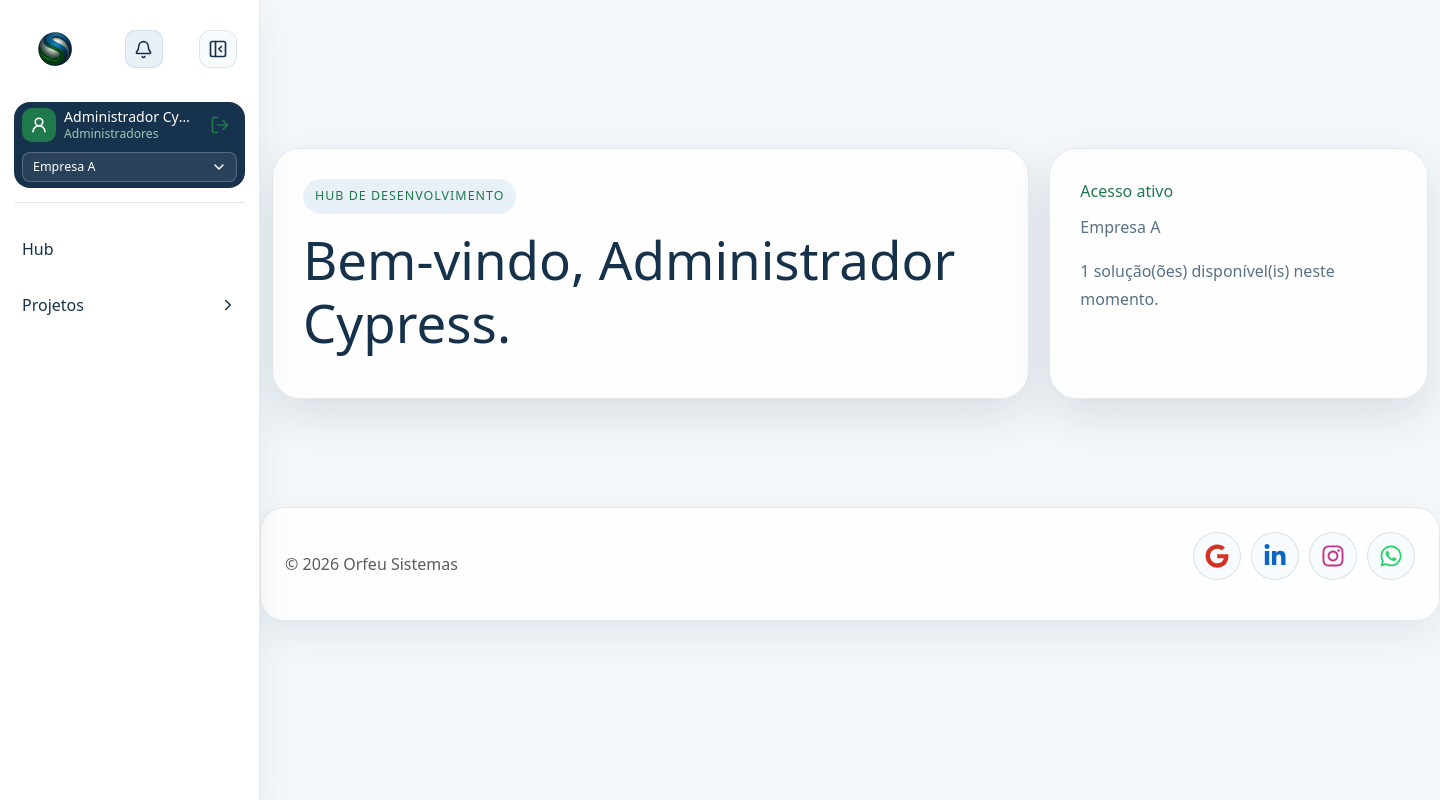
Test: navegação e layout com dados simulados › mantém Landing e Hub íntegros em desktop
This screenshot has width=1440, height=800.
Check: the heading "Bem-vindo, Administrador Cypress." is shown, box top-left (303, 228), bottom-right (998, 354)
Click the button named "Notificações de chamados. 0 não lidas". click: (144, 49)
box: top-left (125, 30), bottom-right (163, 68)
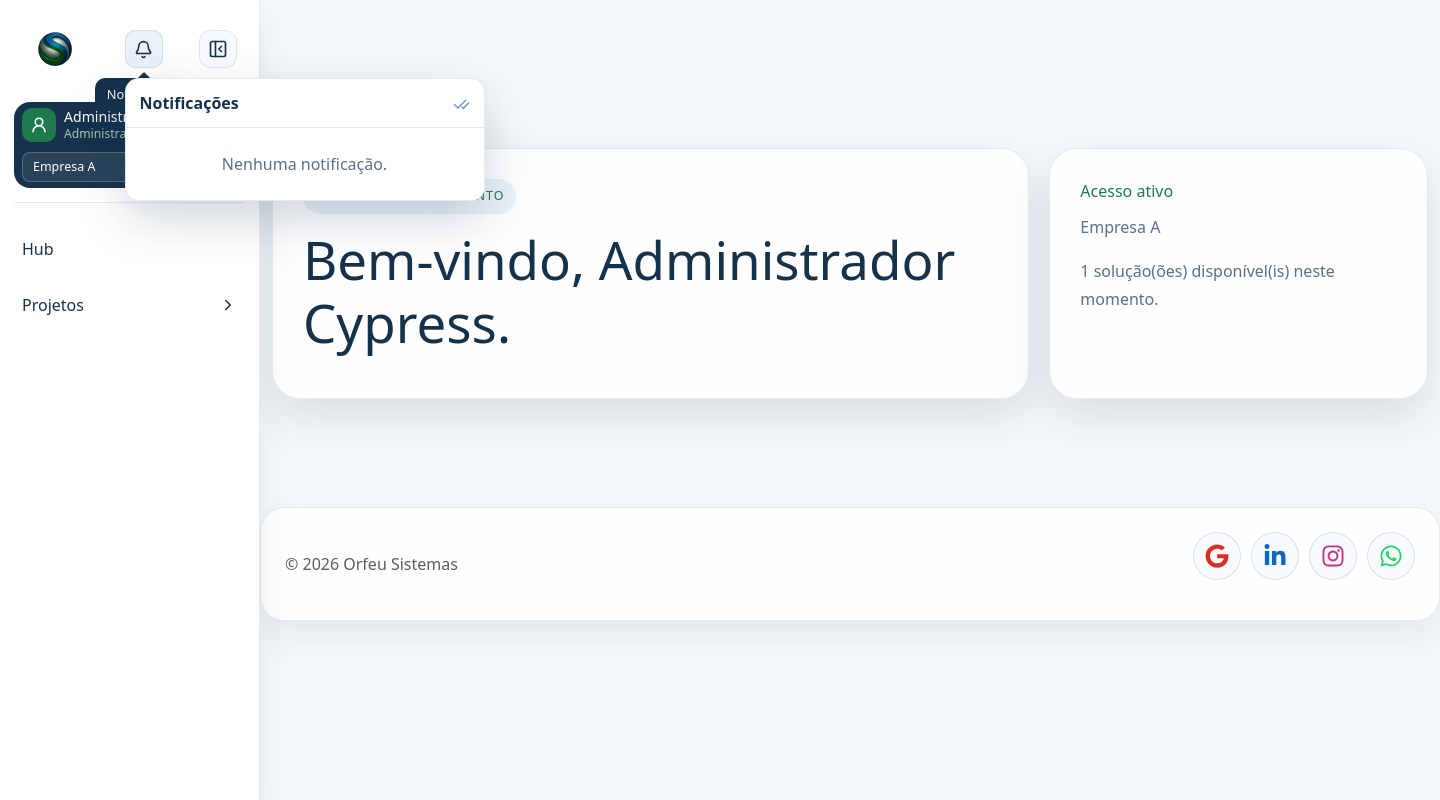
Check: the text "Nenhuma notificação." is shown, box top-left (222, 153), bottom-right (387, 175)
